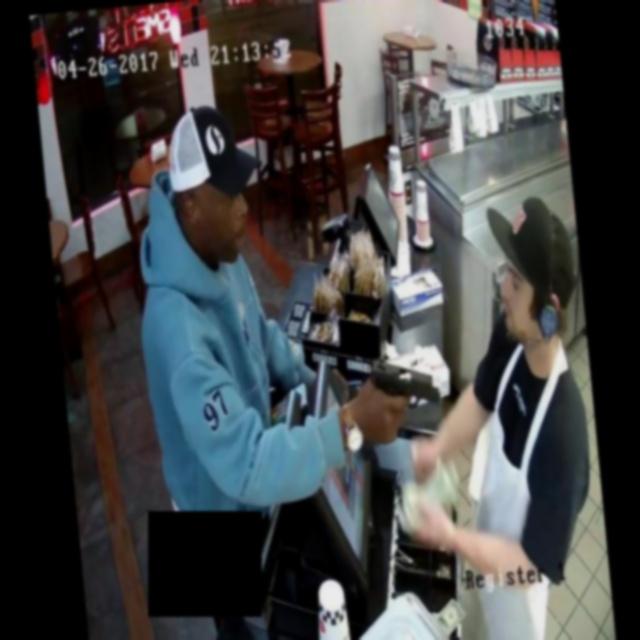gun: (344, 324, 453, 431)
